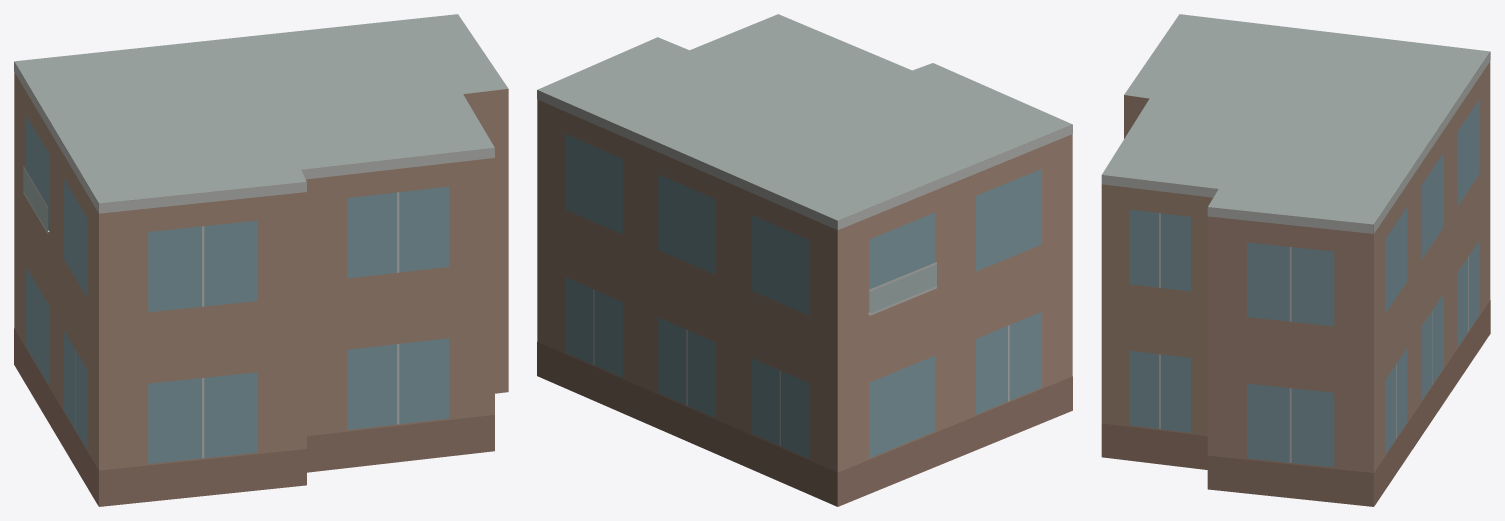
The model's file is survey-upis-32542392.glb.
The picture shows the model from 3 angles, left to right: view 1: azimuth 30°, elevation 25°; view 2: azimuth 150°, elevation 25°; view 3: azimuth 270°, elevation 25°; orthographic projection. The views are drawn at different scales.
Visible parts, largest first — view 1: survey-upis-32542392.tmp; view 2: survey-upis-32542392.tmp; view 3: survey-upis-32542392.tmp.
Boxes of the visible parts, x1,y1,x2,y2 form: survey-upis-32542392.tmp: [14, 14, 508, 506]; survey-upis-32542392.tmp: [537, 14, 1072, 506]; survey-upis-32542392.tmp: [1101, 14, 1490, 506].
Bounding box in the file's own units: 11.68 × 7.3 × 9.12.
